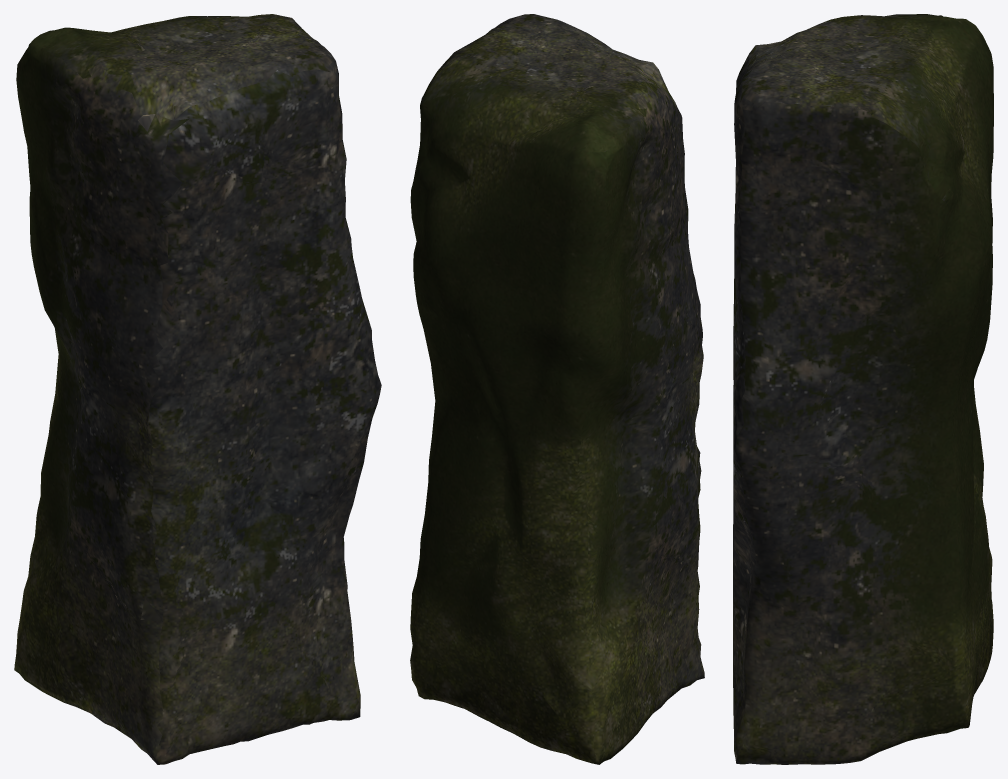
3 views of the same model, side by side, from view 1: azimuth 30°, elevation 25°; view 2: azimuth 150°, elevation 25°; view 3: azimuth 270°, elevation 25° (orthographic). The views are drawn at different scales.
Visible parts, largest first — view 1: Cube; view 2: Cube; view 3: Cube.
Boxes of the visible parts, box(x1,y1,x2,y2) form: Cube: box(14, 14, 381, 764); Cube: box(410, 14, 704, 764); Cube: box(733, 14, 993, 764).
Size of the model in its own units: 216 by 561 by 200.
1 material, 1 textured.
